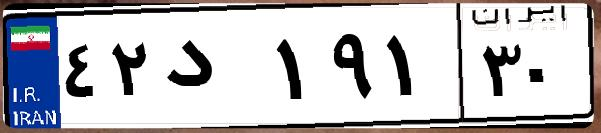0: (525, 38, 570, 115)
1: (270, 28, 330, 110), (385, 28, 445, 110)
2: (110, 28, 158, 98)
3: (475, 38, 525, 113)
4: (57, 26, 110, 100)
9: (330, 28, 385, 110)
د: (158, 20, 270, 120)
